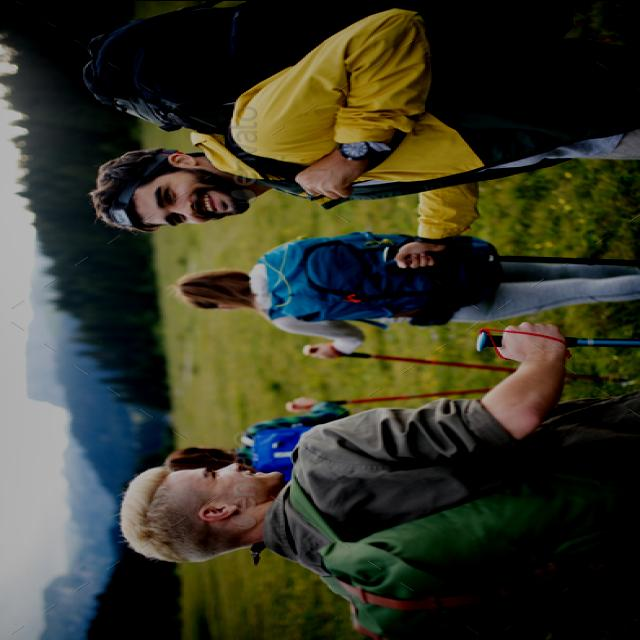backpack: (285, 452, 640, 640), (81, 3, 576, 137), (259, 233, 501, 324), (232, 409, 334, 482)
